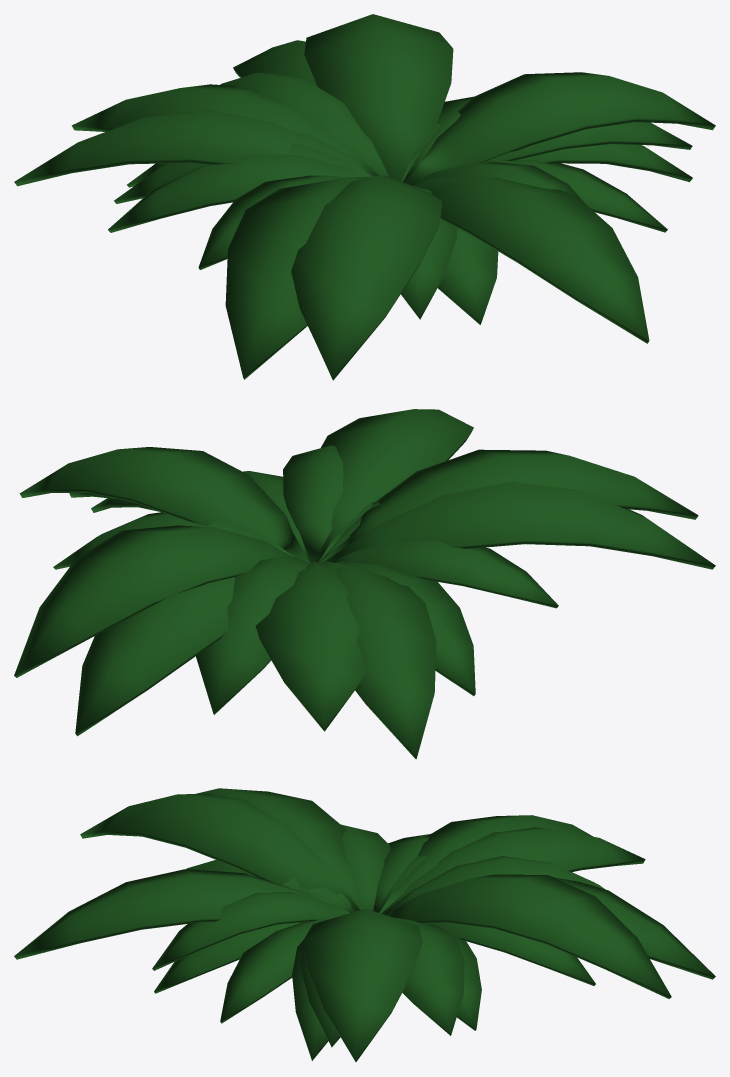
File: GraveyardLeaves.fbx
3 renders of one model, top to bottom at view 1: azimuth 30°, elevation 25°; view 2: azimuth 150°, elevation 25°; view 3: azimuth 270°, elevation 25°, orthographic. The views are drawn at different scales.
Parts seen in each view (by area): view 1: LeafCluster5, LeafCluster3, LeafCluster1, LeafCluster2, LeafCluster0, LeafCluster4; view 2: LeafCluster5, LeafCluster3, LeafCluster1, LeafCluster0, LeafCluster2, LeafCluster4; view 3: LeafCluster3, LeafCluster5, LeafCluster1, LeafCluster0, LeafCluster2, LeafCluster4.
Part boxes in pixels (left/top/right/bottom): LeafCluster5: left=14, top=40, right=692, bottom=379; LeafCluster3: left=71, top=72, right=715, bottom=380; LeafCluster1: left=108, top=14, right=692, bottom=324; LeafCluster2: left=114, top=73, right=667, bottom=319; LeafCluster0: left=198, top=162, right=585, bottom=269; LeafCluster4: left=127, top=96, right=473, bottom=187; LeafCluster5: left=75, top=409, right=715, bottom=759; LeafCluster3: left=19, top=447, right=698, bottom=731; LeafCluster1: left=14, top=490, right=475, bottom=695; LeafCluster0: left=283, top=445, right=558, bottom=608; LeafCluster2: left=196, top=471, right=379, bottom=714; LeafCluster4: left=53, top=512, right=349, bottom=569; LeafCluster3: left=80, top=793, right=645, bottom=1061; LeafCluster5: left=14, top=788, right=715, bottom=1060; LeafCluster1: left=289, top=834, right=671, bottom=1047; LeafCluster0: left=152, top=824, right=595, bottom=985; LeafCluster2: left=186, top=856, right=604, bottom=1030; LeafCluster4: left=154, top=856, right=464, bottom=1035.
Size of the model in its own units: 0.5452 by 0.1095 by 0.6365.
